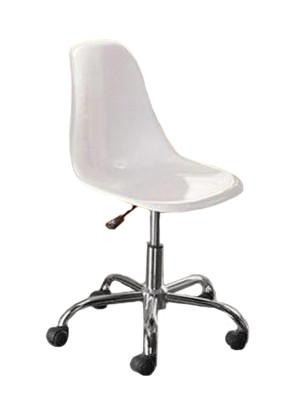chairs: (34, 32, 254, 382)
